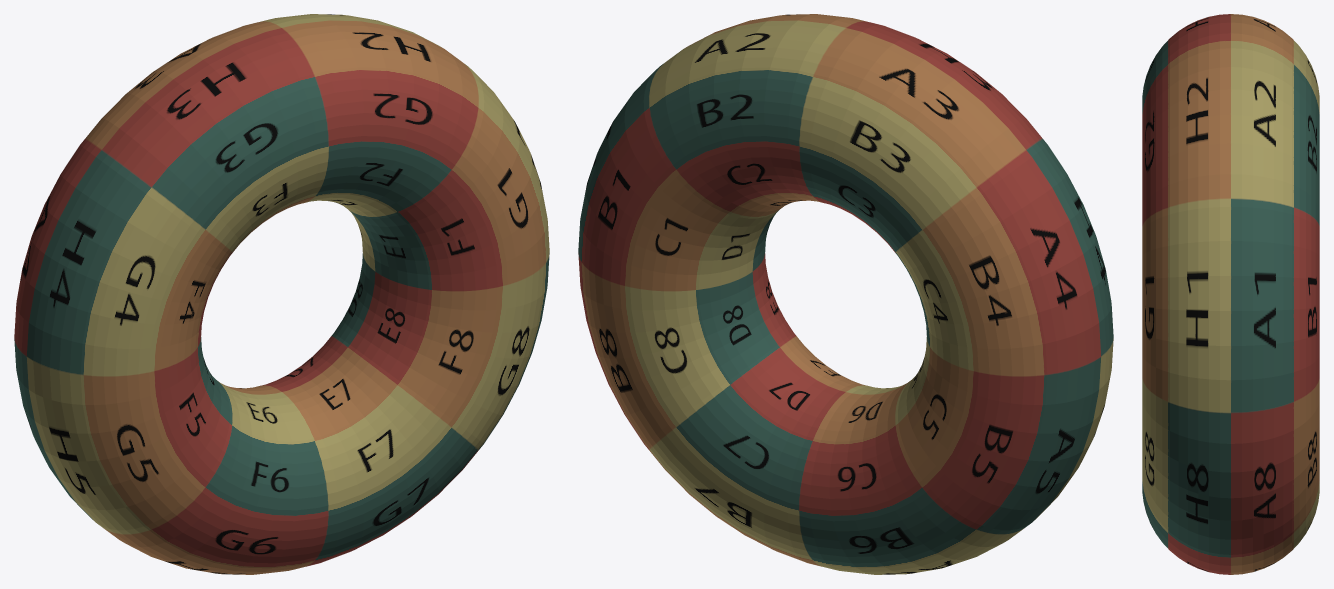
The model's file is texture_torus_R13_r25.glb.
3 views of the same model, side by side, from view 1: azimuth 30°, elevation 25°; view 2: azimuth 150°, elevation 25°; view 3: azimuth 270°, elevation 25° (orthographic). The views are drawn at different scales.
Parts seen in each view (by area): view 1: world; view 2: world; view 3: world.
Boxes of the visible parts, x1,y1,x2,y2 form: world: (14,14,549,574); world: (578,14,1113,574); world: (1142,14,1319,574).
Size of the model in its own units: 27.33 by 27.28 by 8.65.
Materials: 1 (1 with a texture image).
